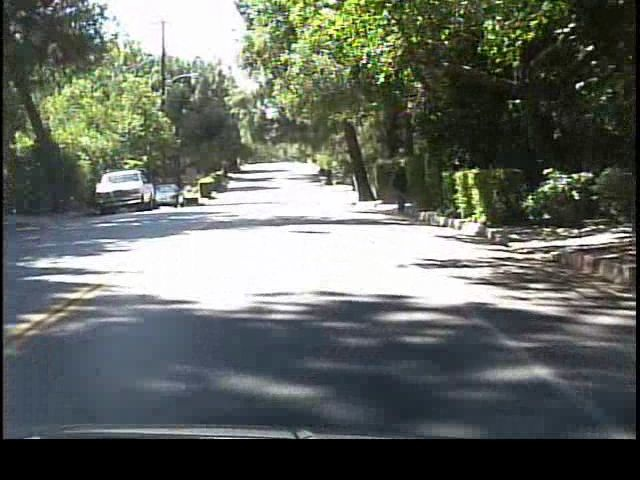person: (389, 158, 410, 216)
